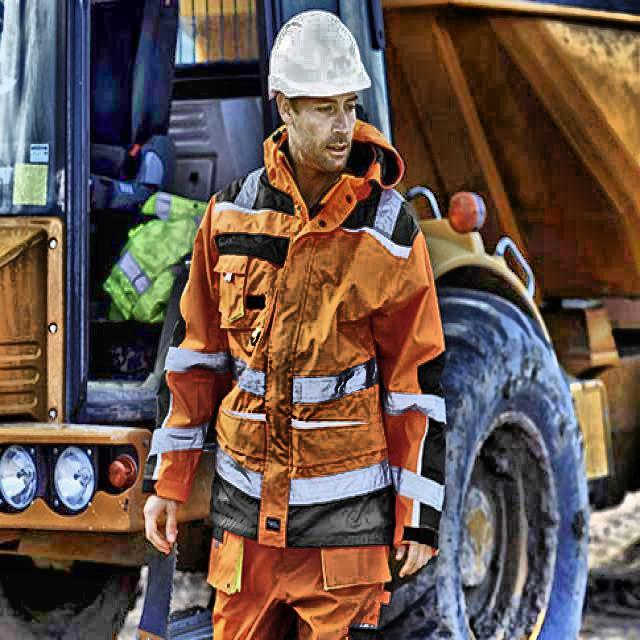person: (152, 0, 418, 640)
